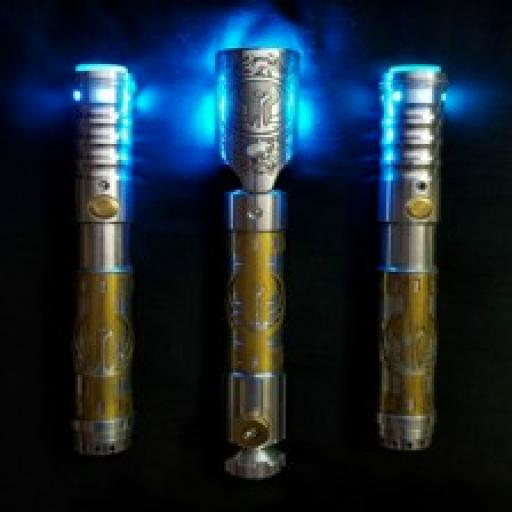lightsaber: (203, 37, 325, 481), (368, 50, 445, 456), (64, 58, 138, 457)
